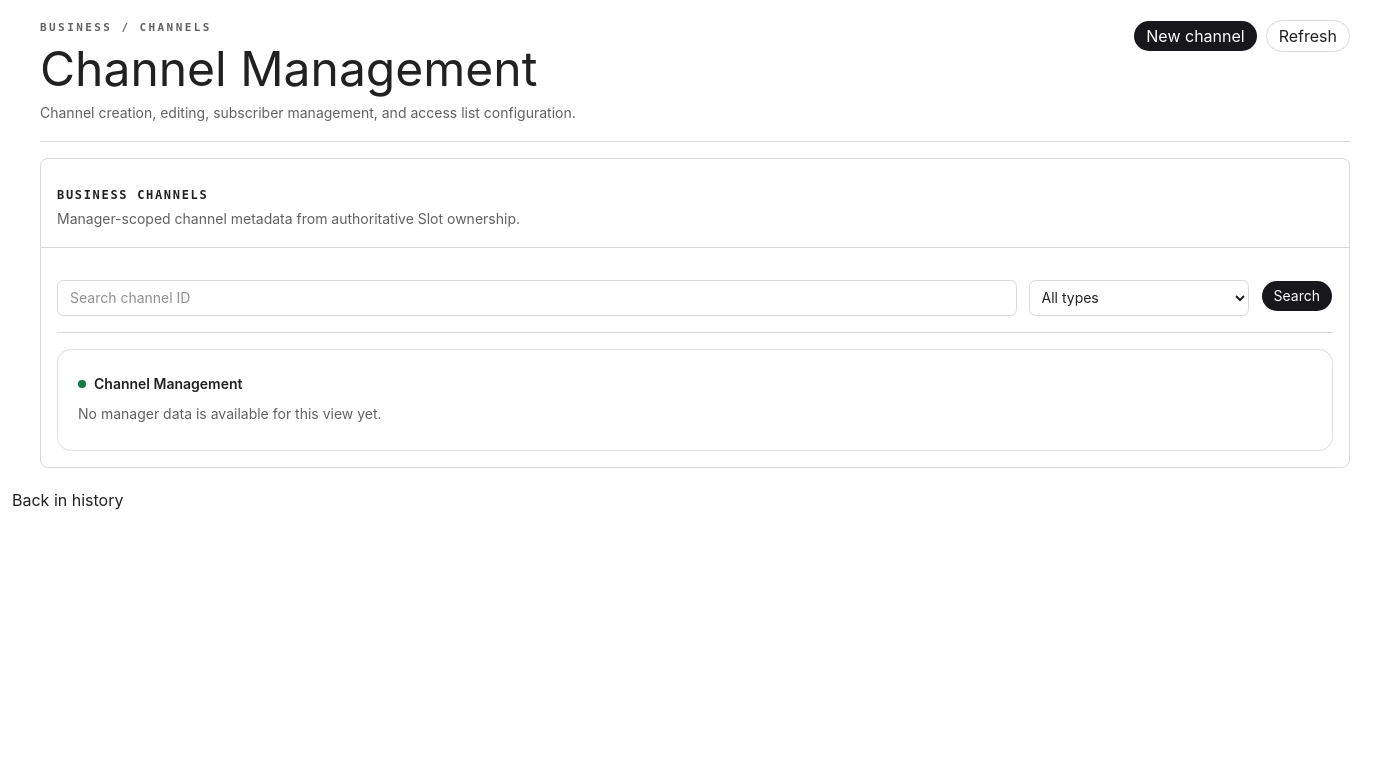
Test case: searches by channel ID, filters by type, and loads more
expect the text "No manager data is available for this view yet." is shown: met, box [78,404,382,422]
Type "alpha" into the field with placeholder "Search channel ID" at [537, 298], box [57,280,1016,316]
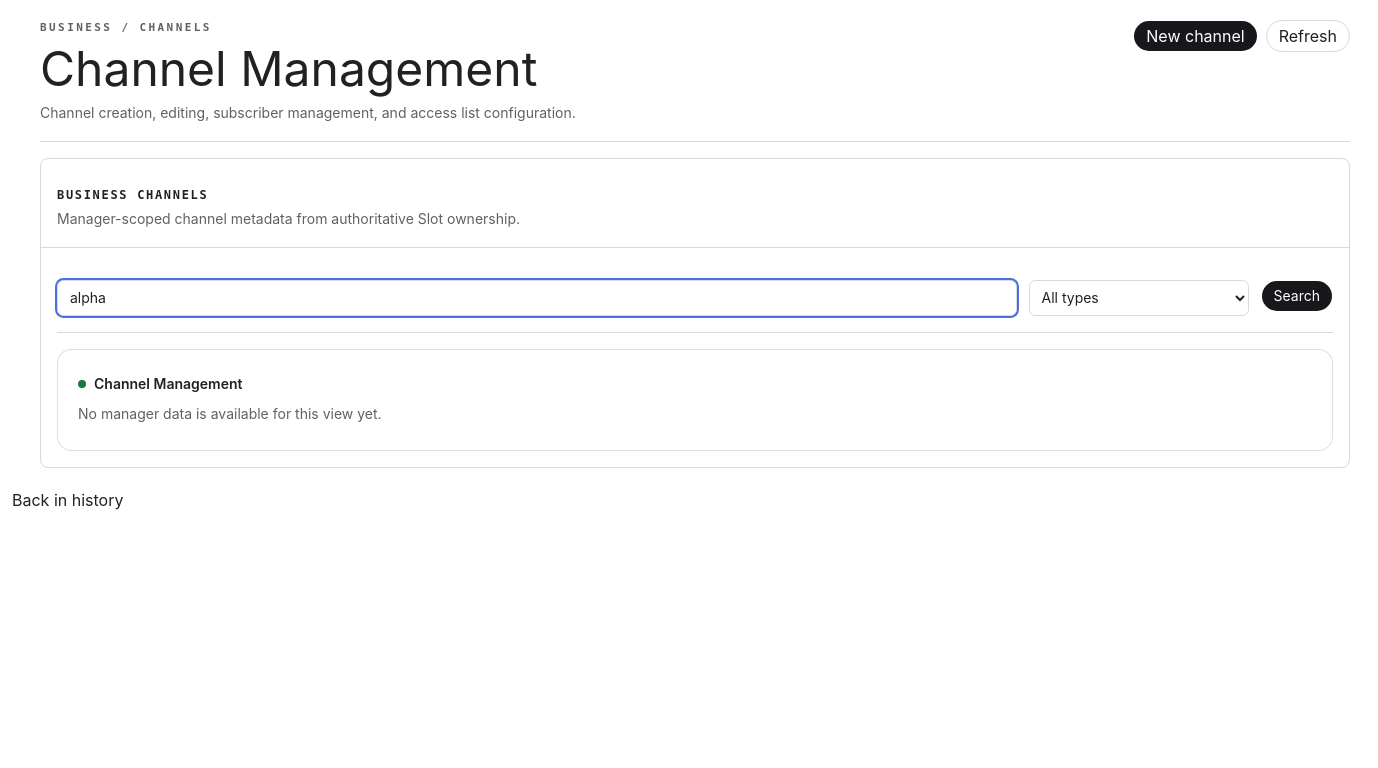
Select "group (2)" in the dropdown named "Channel type" at [1138, 298], box [1028,280,1248,316]
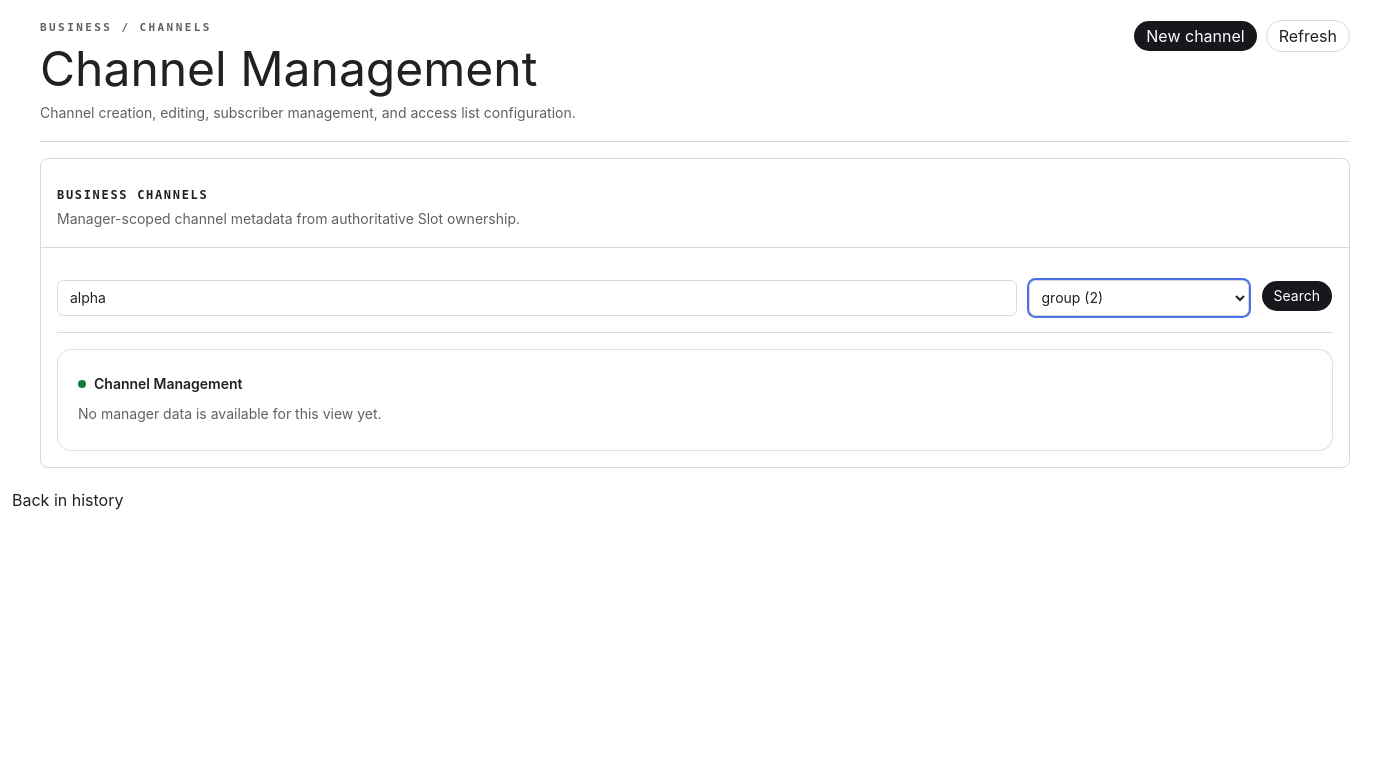
Click the button "Search" at [1297, 296], box [1260,280,1333,312]
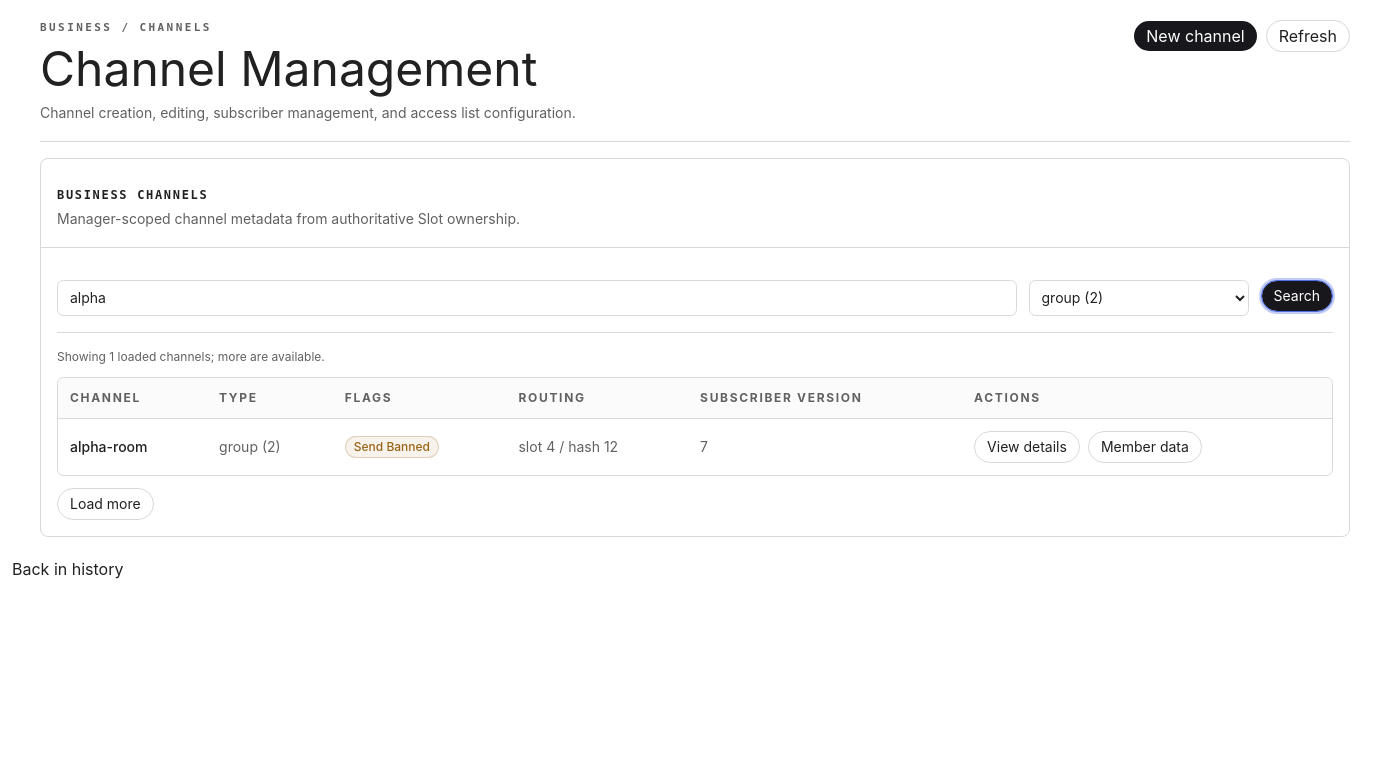
expect the text "alpha-room" is shown: met, box [58,418,207,474]
Click the button "Load more" at [105, 504], box [57,488,154,520]
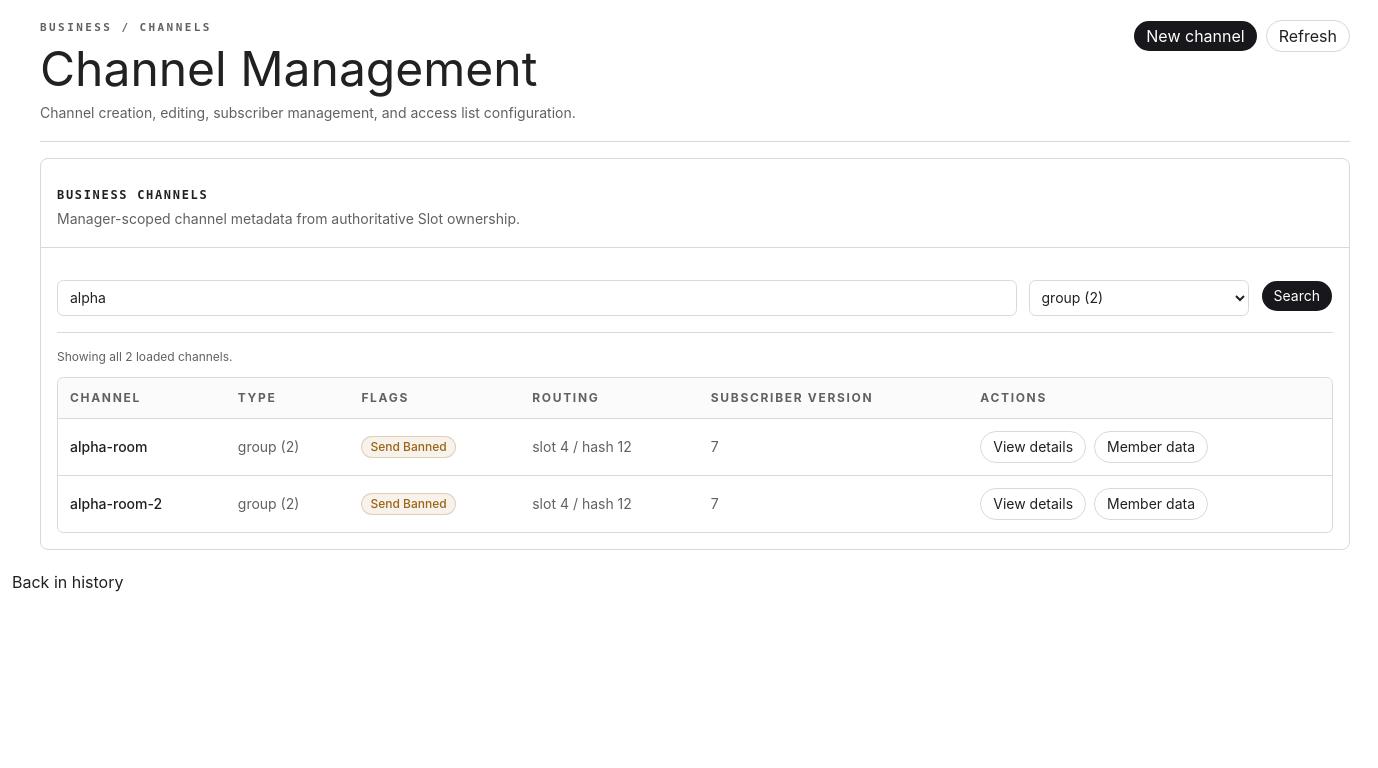
expect the text "alpha-room-2" is shown: met, box [58,475,226,532]
